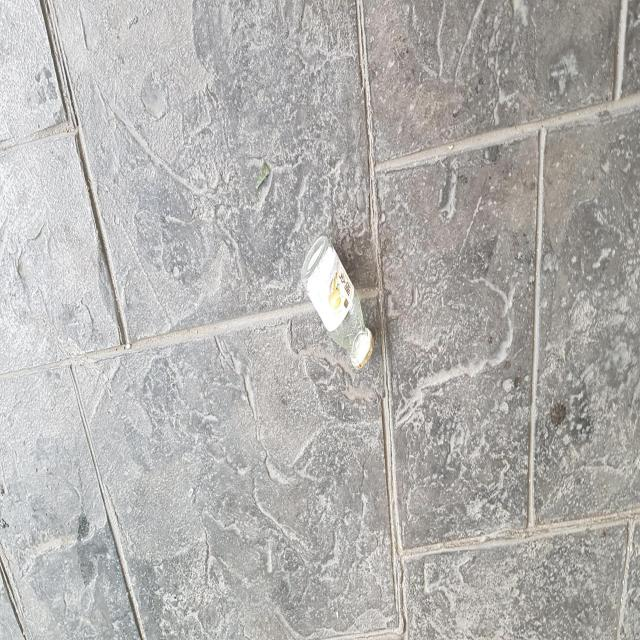glass: (301, 235, 374, 368)
